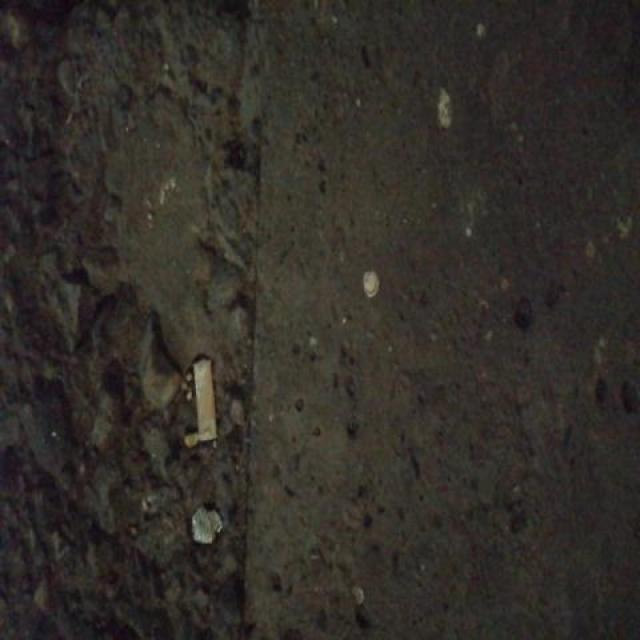non-organic waste: (188, 352, 220, 447)
